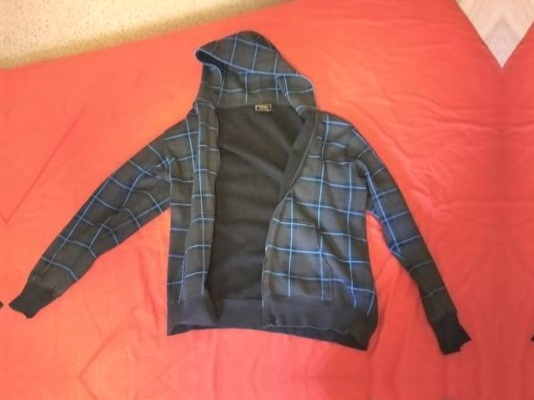Hoodie: (15, 31, 475, 372), (14, 385, 474, 400), (529, 33, 534, 374), (528, 387, 534, 400)
